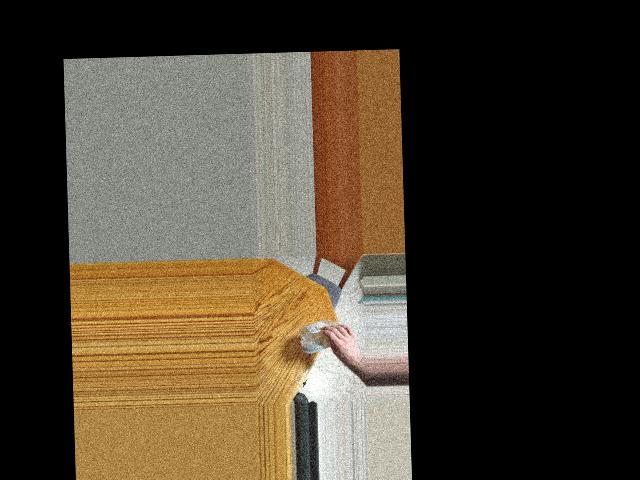cheese: (312, 320, 350, 354)
